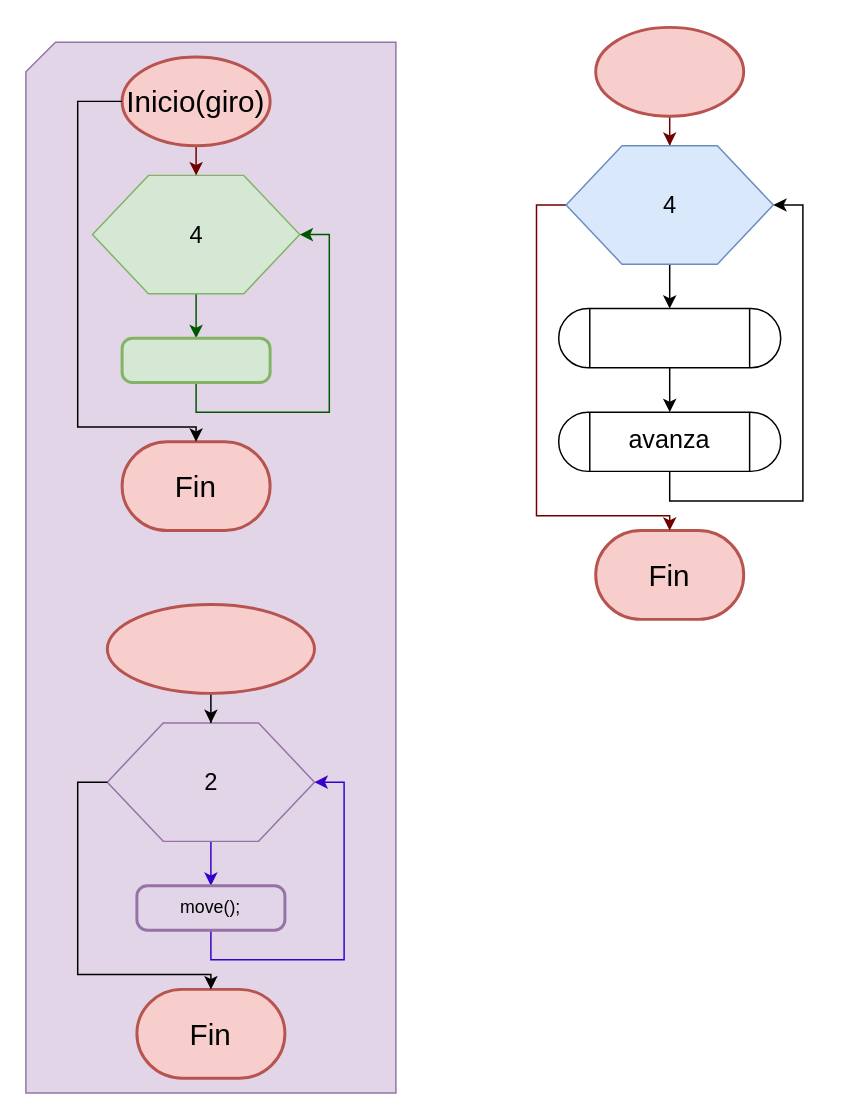
Some shapes in this 841 by 1119 pixel diagram are drawn without their labels. The centre of each missing label's shape, as x and y in pixels:
giro: (669,337)
Inicio: (668,71)
Inicio(avanza): (210,648)
turnleft();: (195,359)
